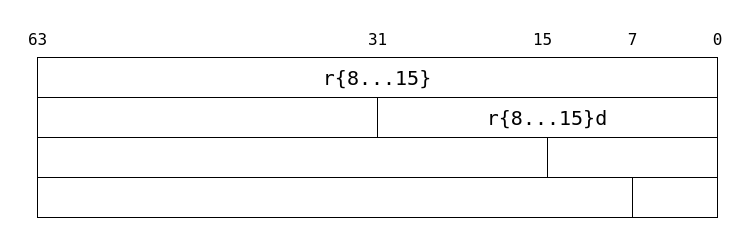
This 749x235 diagram has some shape labels left out. The centre of each missing label's shape, as x and y in pixels:
"r{8...15}w" belongs at point (632, 157).
"r{}b" belongs at point (675, 197).
